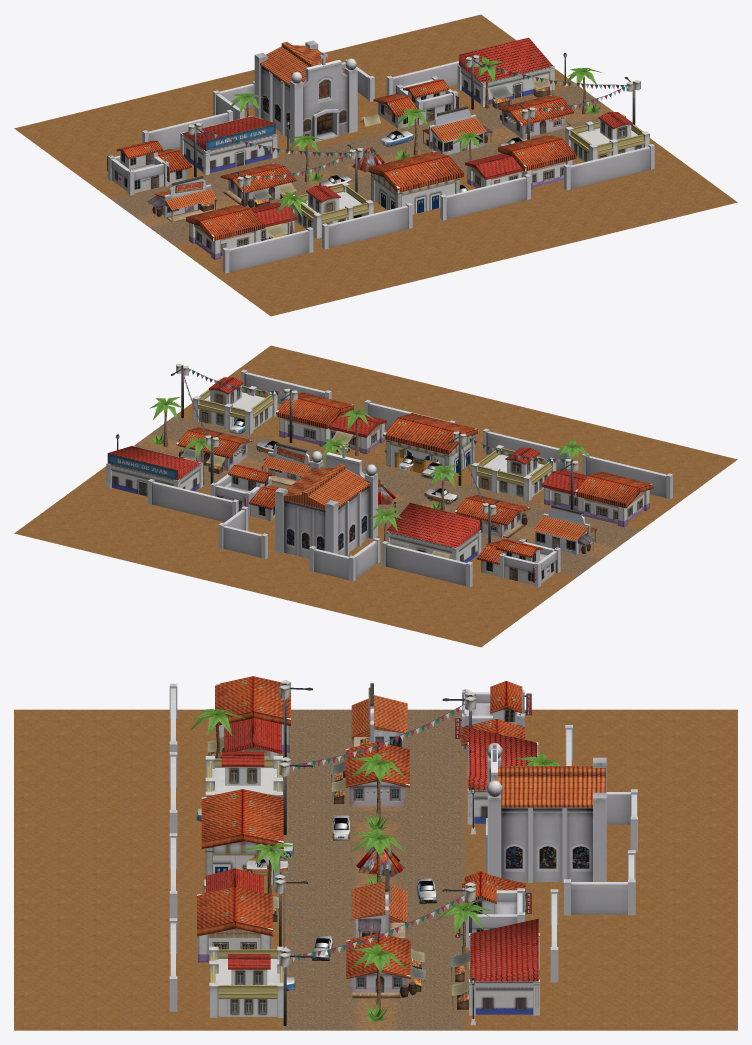
File: day_of_the_dead_environment-transformed.glb
3 views of the same model, one above another, from view 1: azimuth 30°, elevation 25°; view 2: azimuth 150°, elevation 25°; view 3: azimuth 270°, elevation 25° (orthographic). The views are drawn at different scales.
Visible parts, largest first — view 1: Object_4, Object_2, Object_5, Object_3; view 2: Object_4, Object_2, Object_5, Object_3; view 3: Object_2, Object_4, Object_5, Object_3.
Part boxes in pixels (x1=…): Object_4: x1=107, y1=37, x2=654, y2=273; Object_2: x1=14, y1=14, x2=737, y2=316; Object_5: x1=152, y1=58, x2=628, y2=218; Object_3: x1=184, y1=73, x2=480, y2=173; Object_4: x1=106, y1=364, x2=672, y2=587; Object_2: x1=14, y1=345, x2=737, y2=647; Object_5: x1=163, y1=369, x2=590, y2=553; Object_3: x1=111, y1=470, x2=477, y2=562; Object_2: x1=14, y1=709, x2=737, y2=1030; Object_4: x1=169, y1=676, x2=637, y2=1025; Object_5: x1=196, y1=704, x2=544, y2=1012; Object_3: x1=474, y1=798, x2=533, y2=1014.
Bounding box in the file's own units: 1369 × 240 × 1304.
2 materials, 2 textured.
